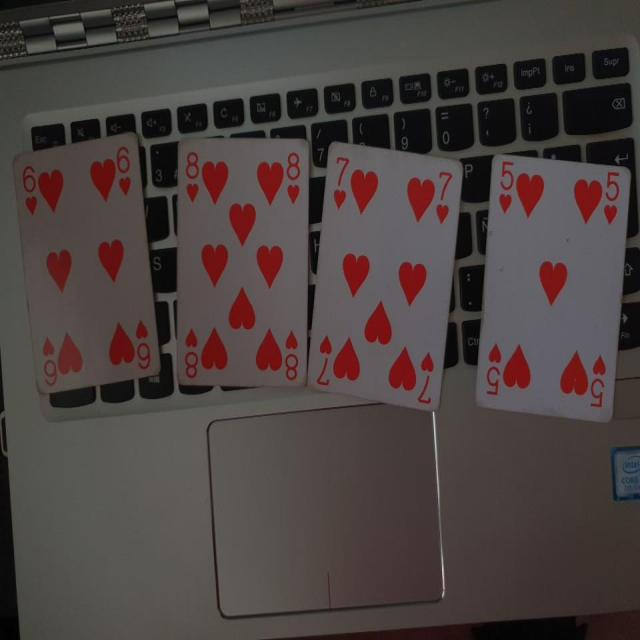5 Hearts: (472, 149, 638, 424)
6 Hearts: (13, 130, 165, 403)
7 Hearts: (305, 141, 469, 415)
8 Hearts: (169, 132, 314, 404)
